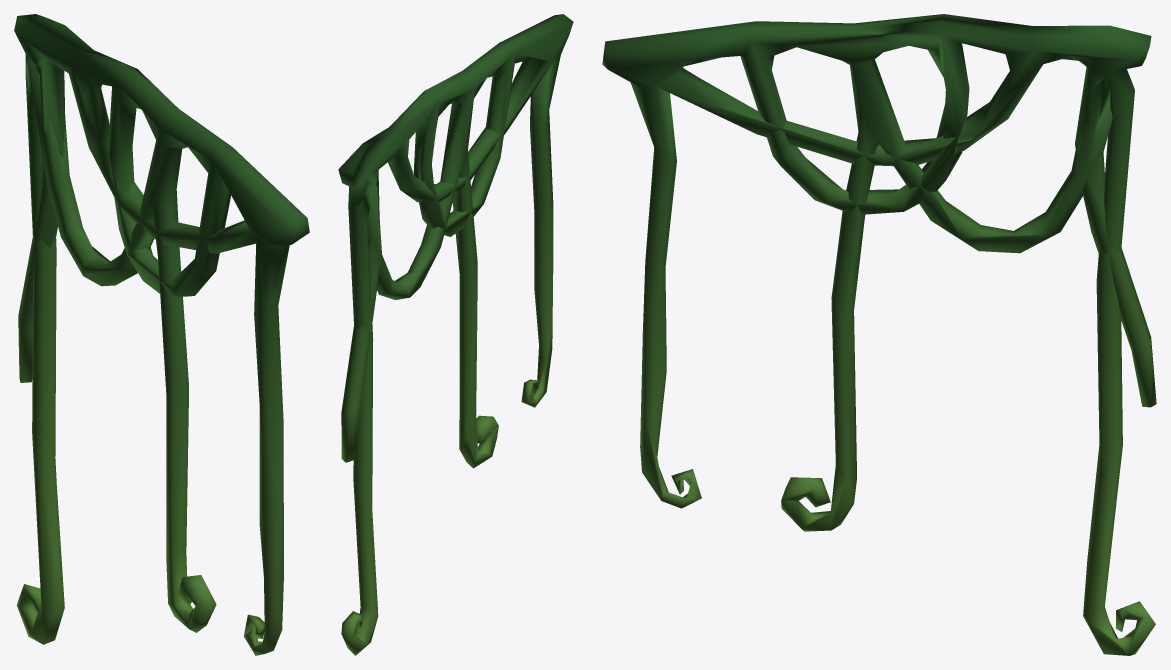
Rendered from VinesDoors.fbx.
3 views of the same model, side by side, from view 1: azimuth 30°, elevation 25°; view 2: azimuth 150°, elevation 25°; view 3: azimuth 270°, elevation 25° (orthographic). The views are drawn at different scales.
Visible parts, largest first — view 1: Plane.163; view 2: Plane.163; view 3: Plane.163.
Part boxes in pixels (<box>): Plane.163: <box>14,14,309,655</box>; Plane.163: <box>338,14,573,655</box>; Plane.163: <box>602,14,1156,655</box>.
Bounding box in the file's own units: 17.36 × 241 × 307.
